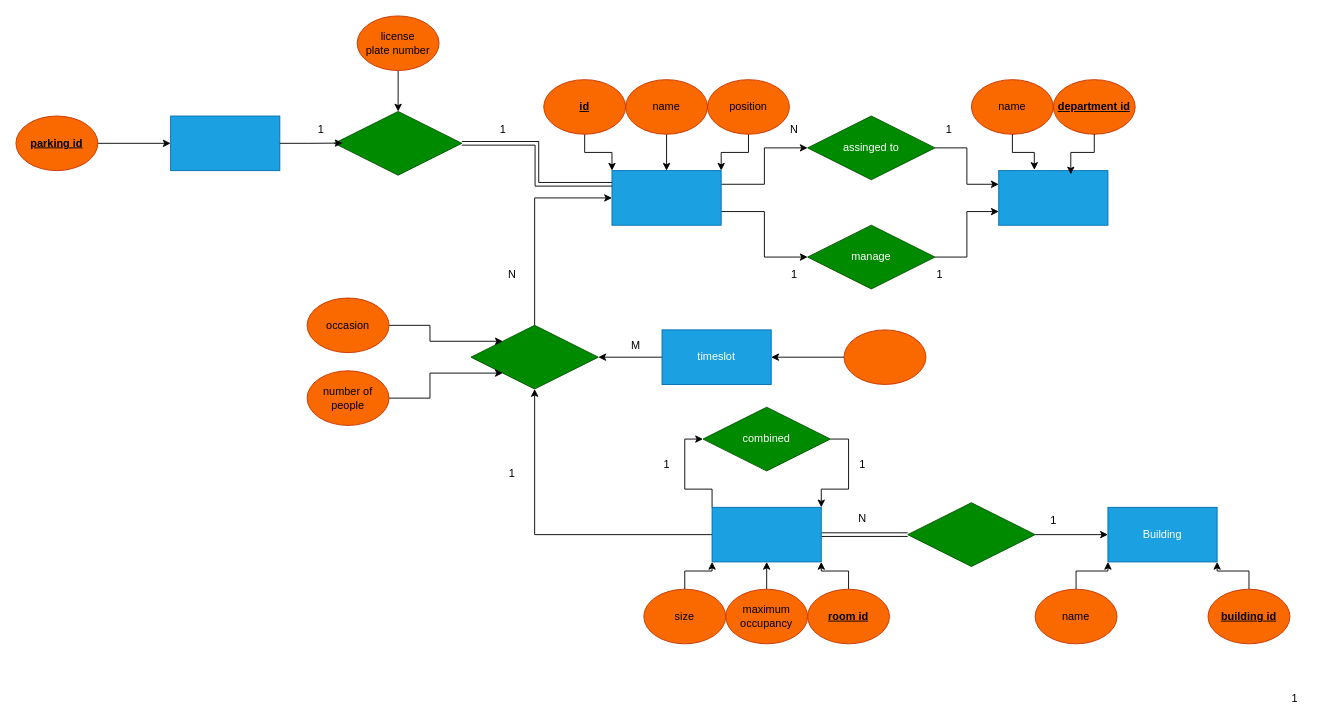
Image size: 1324x728. Some labels were removed from this diagram. The centre of each missing label's shape, as x and y in pixels:
assigned: (398,143)
belongs to: (971,534)
department: (1053,197)
employee: (666,197)
meeting room: (766,534)
parking space: (225,143)
reserve: (534,356)
time: (884,356)
